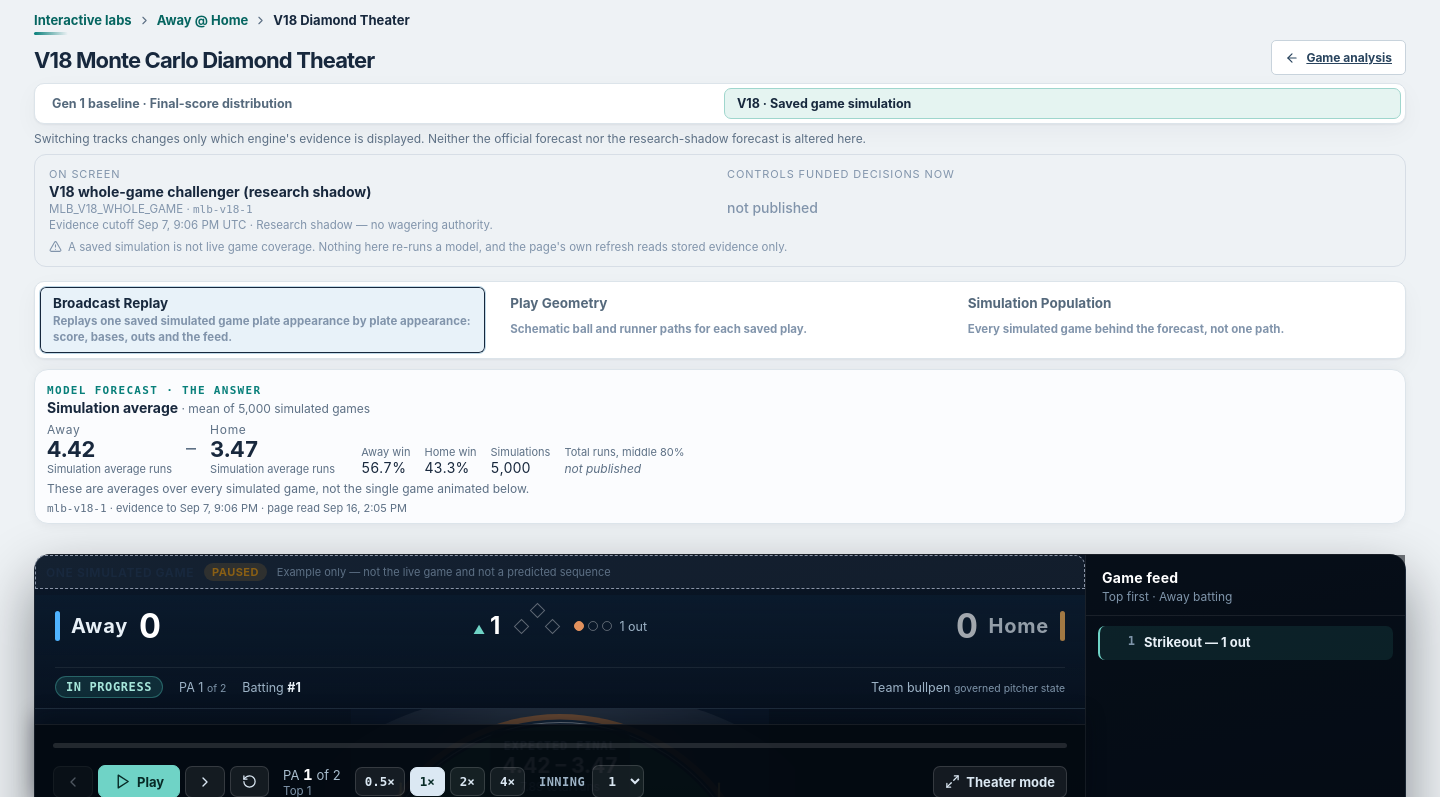
Test: the simulator view selector › switches to Play Geometry and back without leaving the V18 track
Click the button "Play Geometry" at (720,320), box [496,286,944,354]
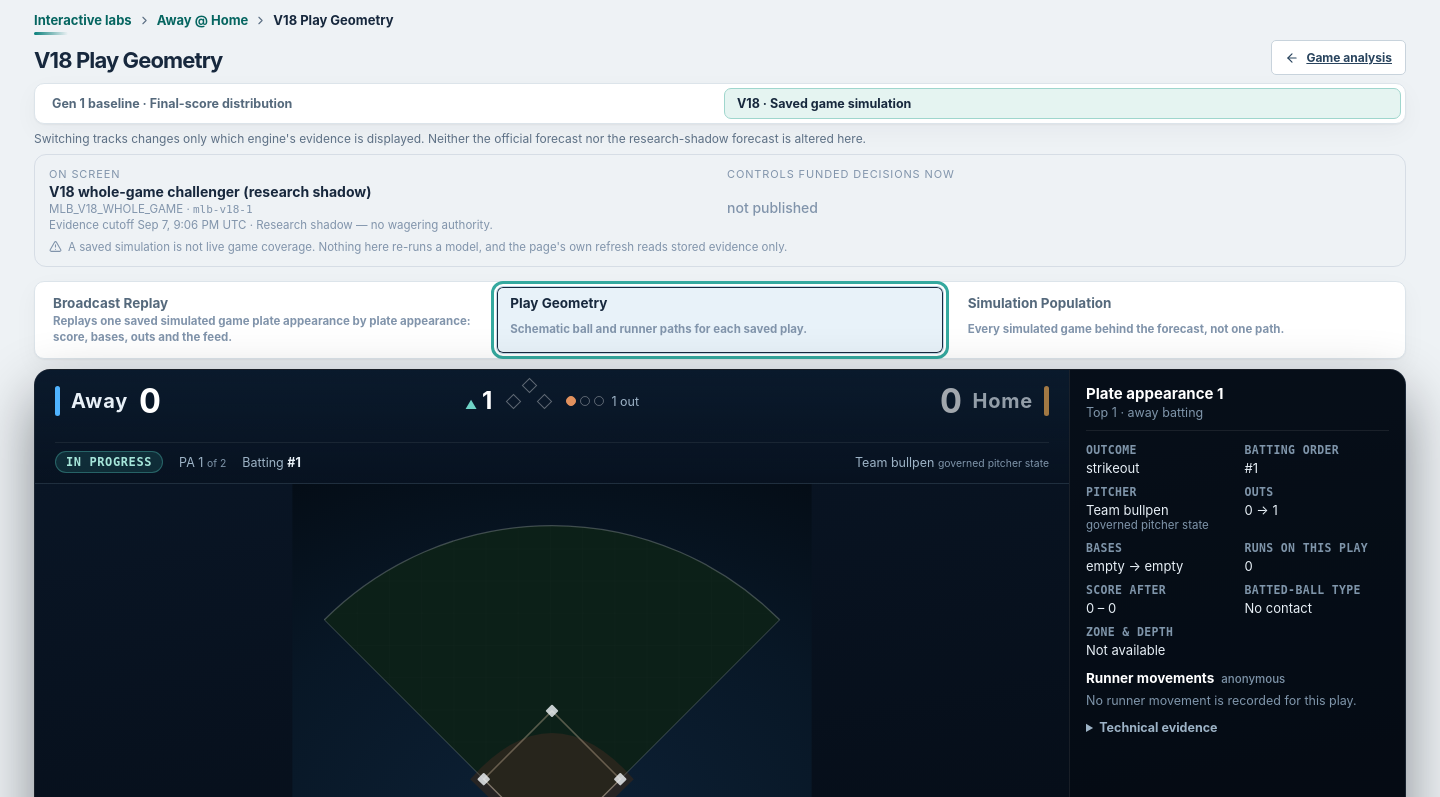
Expected: the navigation bar named "simulation track" is shown, [34,83,1406,124]
Click the button "Broadcast Replay" at (263,320), box [39,286,486,354]
(page scrolled)
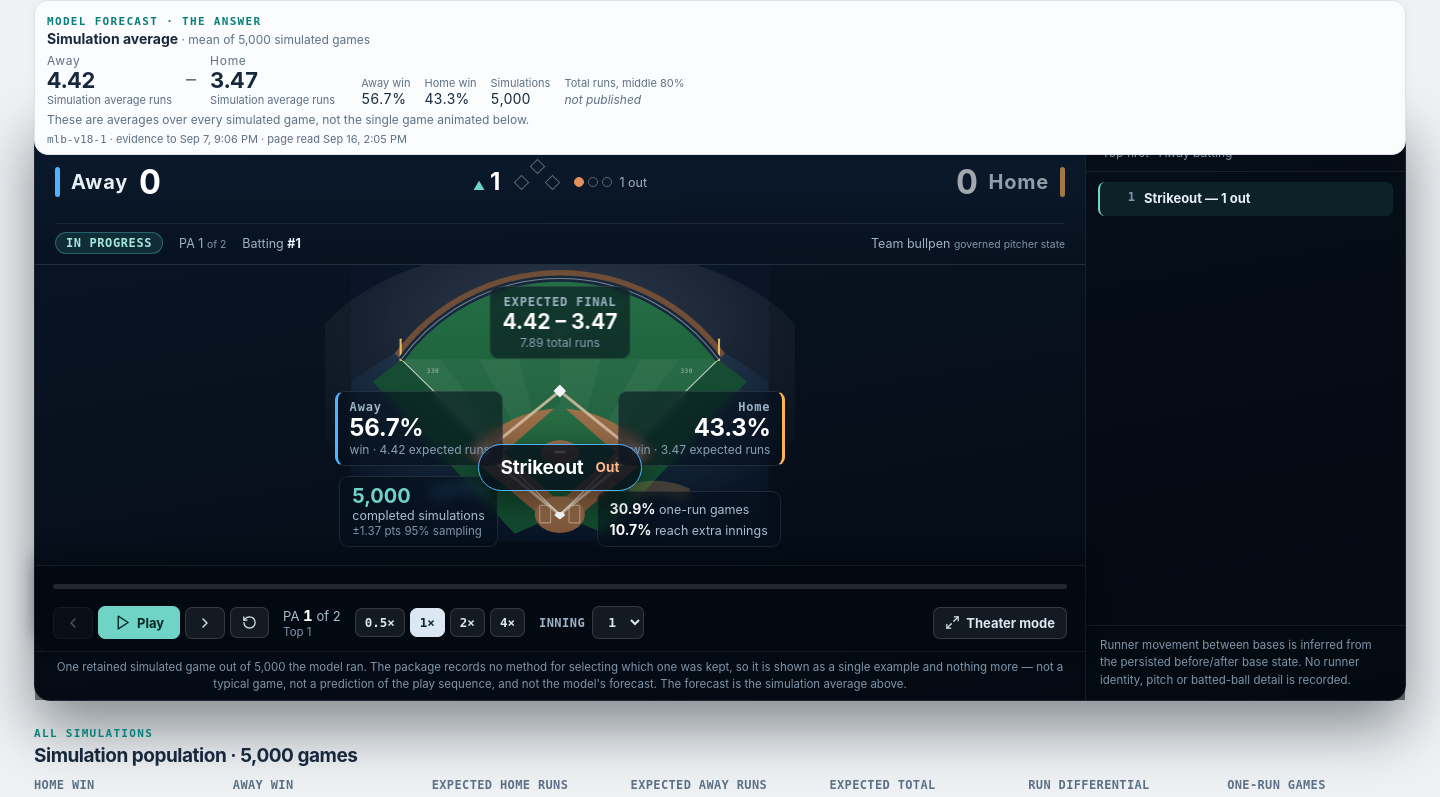
Now the element with test id "diamond-theater" is shown
